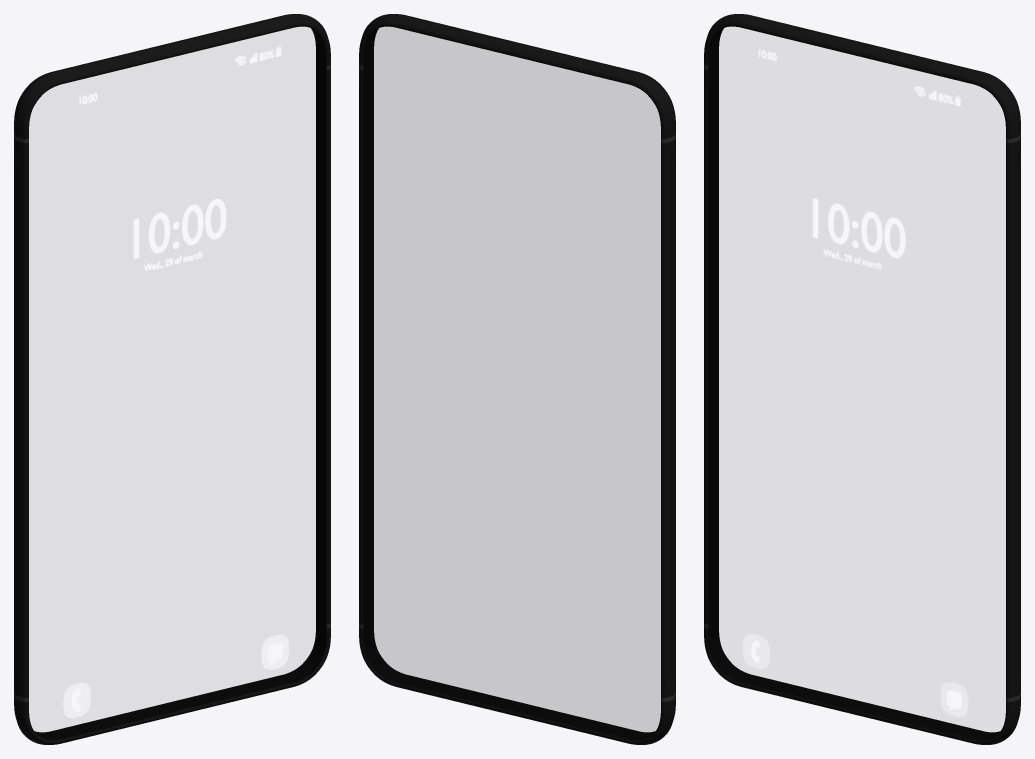
The model's file is smartphone.glb.
3 renders of one model, left to right at view 1: azimuth 30°, elevation 25°; view 2: azimuth 150°, elevation 25°; view 3: azimuth 330°, elevation 25°, orthographic.
Visible parts, largest first — view 1: GRAFENO (GRAPHENE)_1; view 2: CAMADAS DE GRAFENO (GRAPHENE LAYERS).001_2, GRAFENO (GRAPHENE)_1; view 3: GRAFENO (GRAPHENE)_1.
Part boxes in pixels (<box>): GRAFENO (GRAPHENE)_1: <box>14,14,330,744</box>; CAMADAS DE GRAFENO (GRAPHENE LAYERS).001_2: <box>364,27,660,739</box>; GRAFENO (GRAPHENE)_1: <box>359,14,675,744</box>; GRAFENO (GRAPHENE)_1: <box>704,14,1020,744</box>.
Size of the model in its own units: 0.0782 by 0.16 by 0.00499.
Materials: 5 (2 with a texture image).
